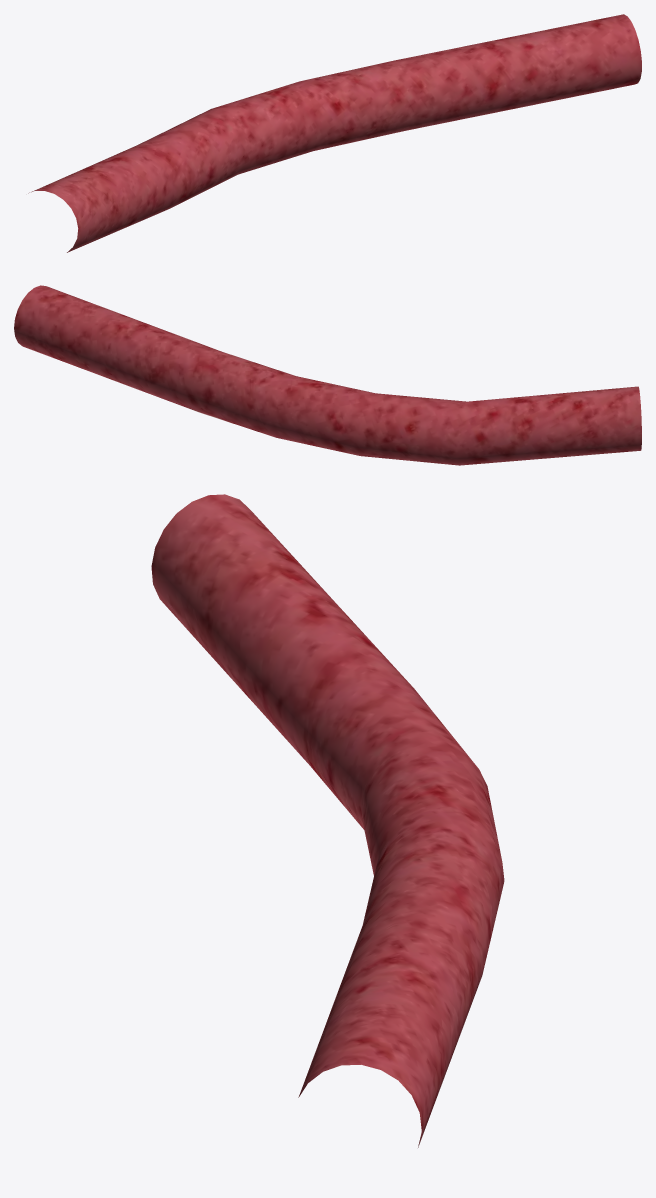
Rendered from Renal_Artery.glb.
3 views of the same model, one above another, from view 1: azimuth 30°, elevation 25°; view 2: azimuth 150°, elevation 25°; view 3: azimuth 270°, elevation 25° (orthographic). The views are drawn at different scales.
Parts seen in each view (by area): view 1: renal_artery; view 2: renal_artery; view 3: renal_artery.
Part boxes in pixels (bbox=[...]): renal_artery: bbox=[28, 14, 641, 252]; renal_artery: bbox=[14, 285, 641, 465]; renal_artery: bbox=[151, 494, 504, 1147].
Size of the model in its own units: 34.1 by 4.35 by 8.88.
1 material, 1 textured.
